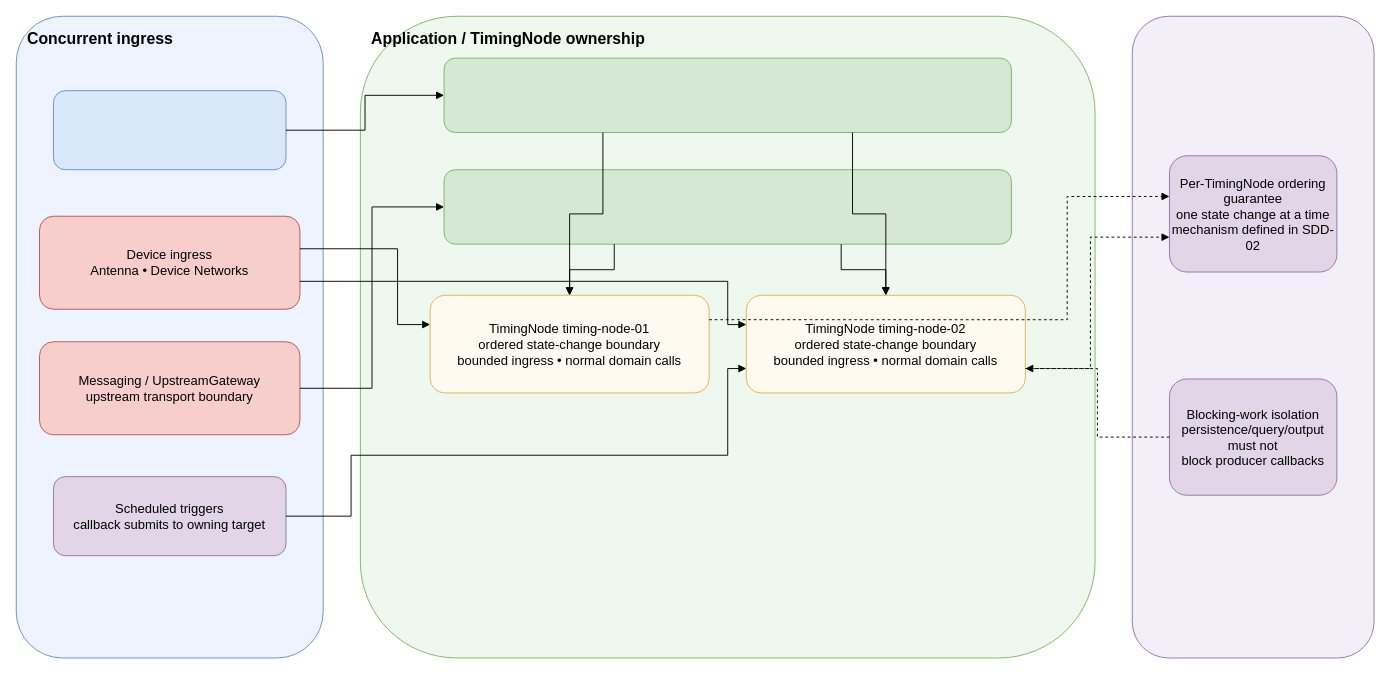
The diagram is 1390 pixels wide and 674 high, and some of its shapes have lost their labels. The shapes that lost their labels are listed below. From the top down, each one's box as (x1, y1, x2, y2) in pixels, then its label:
(443, 57, 1011, 133): CommandHandler presentation commands / queries
(53, 90, 286, 170): Operator / presentation ingress HTTP • shell • console
(443, 169, 1011, 244): UpstreamMessageRouter upstream target resolution only
(1131, 15, 1374, 658): Execution constraints
